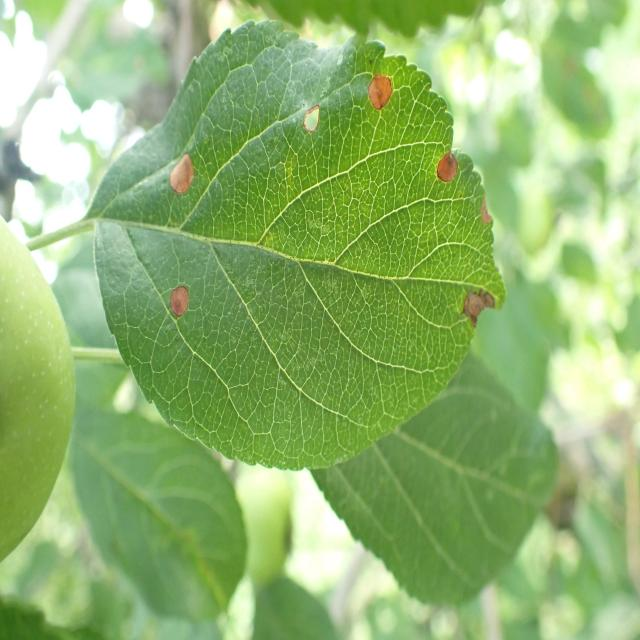Black Rot: (155, 143, 208, 201), (364, 61, 401, 131), (432, 129, 462, 212), (451, 285, 502, 328), (294, 92, 332, 142), (159, 272, 196, 318), (473, 195, 494, 241)
